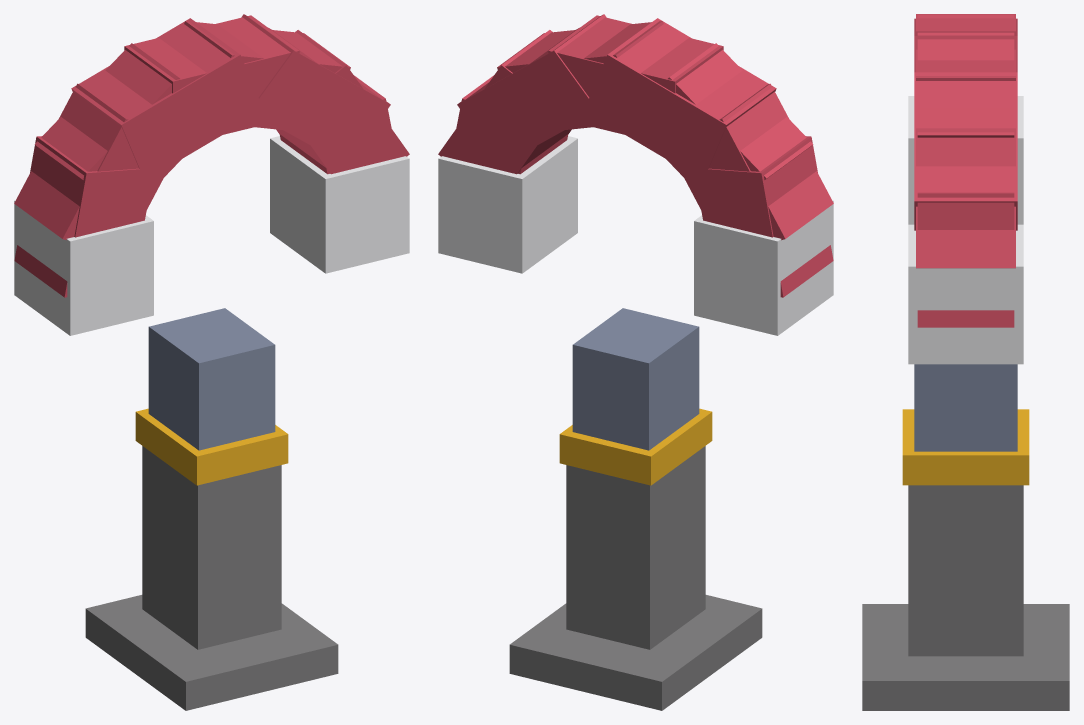
File: magnet.glb
3 renders of one model, left to right at view 1: azimuth 30°, elevation 25°; view 2: azimuth 150°, elevation 25°; view 3: azimuth 270°, elevation 25°, orthographic. The views are drawn at different scales.
Visible parts, largest first — view 1: magnet; view 2: magnet; view 3: magnet.
Boxes of the visible parts, x1=… form: magnet: x1=14, y1=14, x2=409, y2=710; magnet: x1=438, y1=14, x2=833, y2=710; magnet: x1=862, y1=14, x2=1069, y2=710.
Size of the model in its own units: 0.5 by 0.8504 by 0.25.
